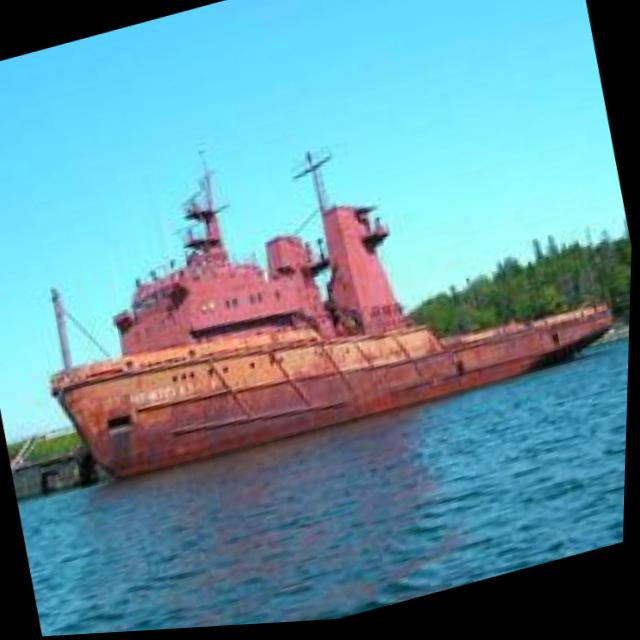ship2: (48, 152, 615, 487)
